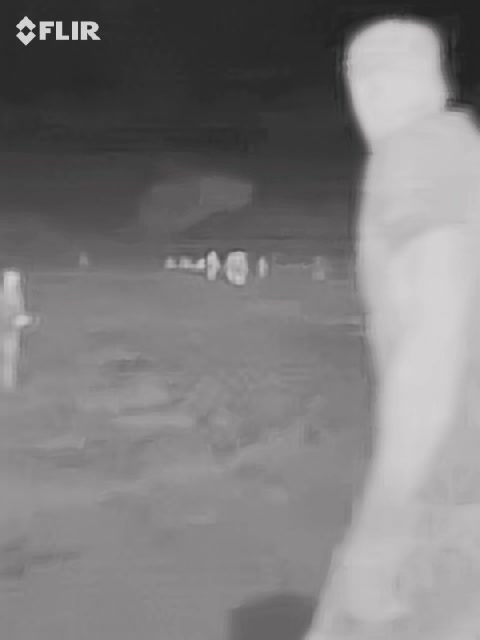head: (344, 22, 456, 161)
